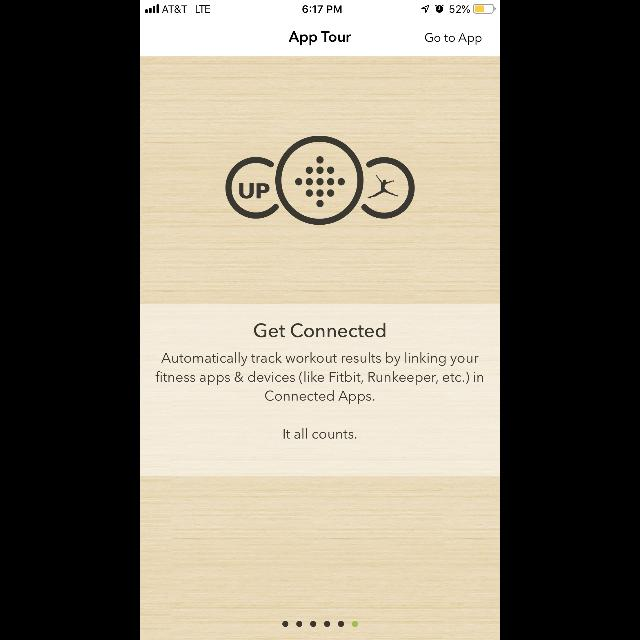image: (225, 135, 415, 225)
pageindicator: (282, 621, 358, 627)
text: (156, 352, 484, 404), (254, 322, 386, 338), (289, 32, 351, 46), (284, 428, 356, 438), (424, 33, 482, 45)
uppertaskbar: (140, 0, 500, 14)
